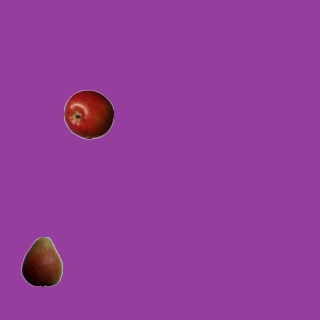Apple Braeburn: (63, 89, 113, 139)
Pear Forelle: (16, 236, 66, 286)
